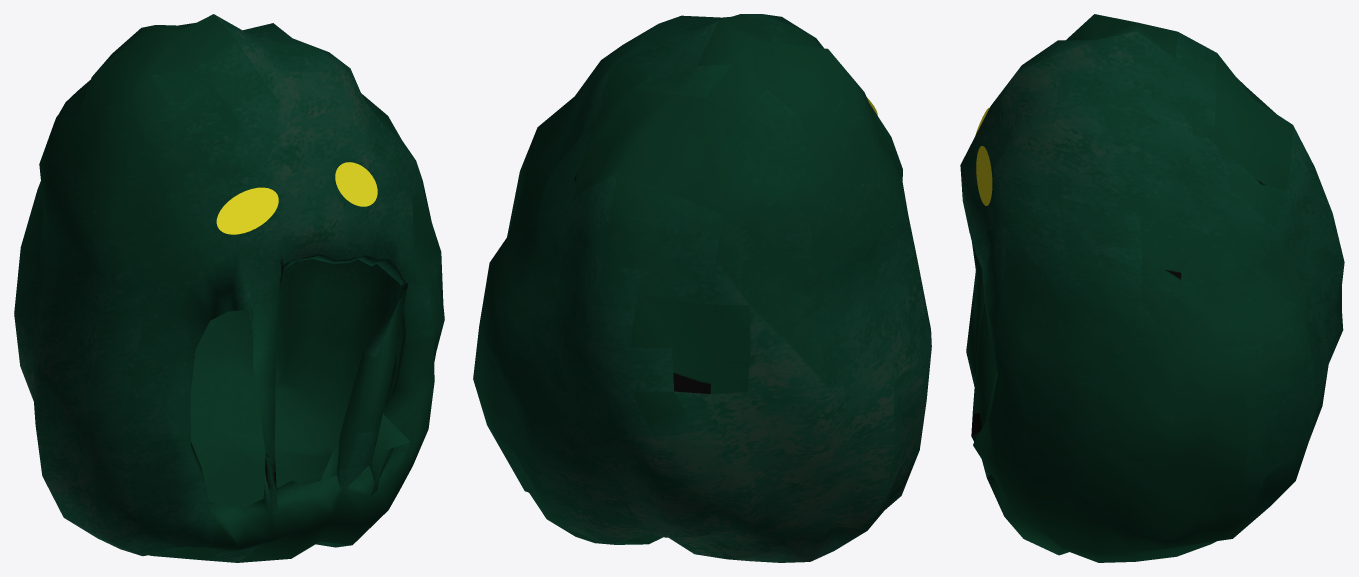
The model's file is SlimeAnimation.fbx.
3 renders of one model, left to right at view 1: azimuth 30°, elevation 25°; view 2: azimuth 150°, elevation 25°; view 3: azimuth 270°, elevation 25°, orthographic. The views are drawn at different scales.
Visible parts, largest first — view 1: Slime; view 2: Slime; view 3: Slime.
Boxes of the visible parts, x1,y1,x2,y2 form: Slime: (14,14,444,562); Slime: (473,14,931,562); Slime: (960,14,1344,562).
Bounding box in the file's own units: 75.2 × 96.57 × 68.75.
Materials: 2 (1 with a texture image).
